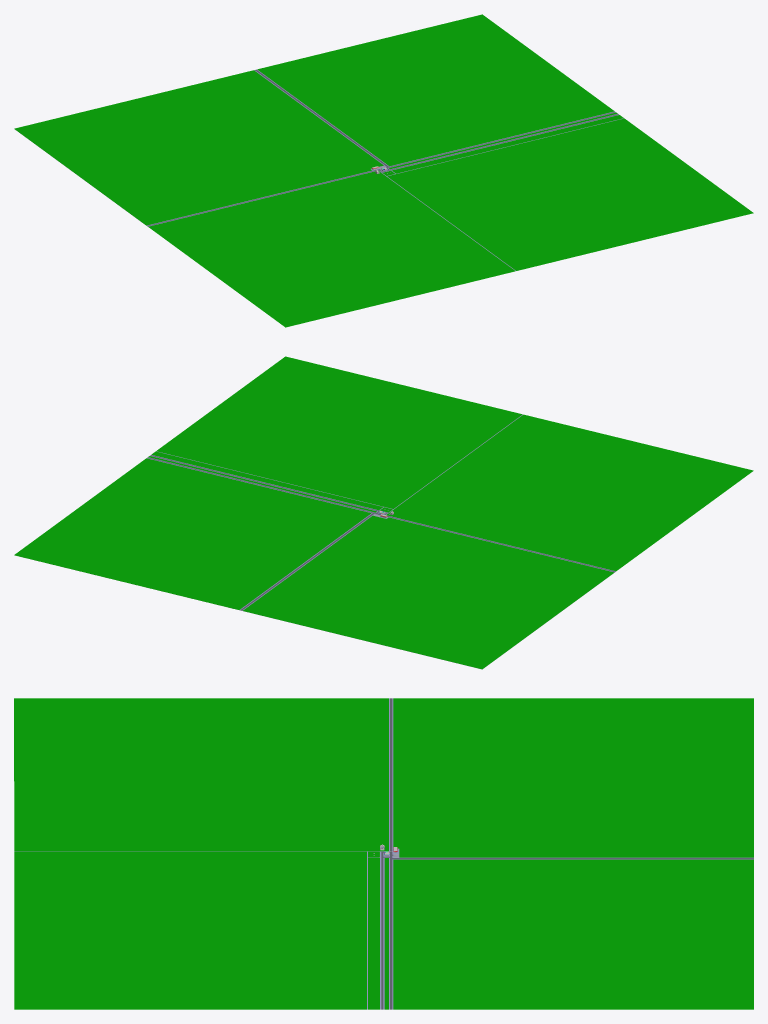
Rendered from ENVO_Street01.obj.
The picture shows the model from 3 angles, top to bottom: view 1: azimuth 30°, elevation 25°; view 2: azimuth 150°, elevation 25°; view 3: azimuth 270°, elevation 25°; orthographic projection. The views are drawn at different scales.
Visible parts, largest first — view 1: Street01; view 2: Street01; view 3: Street01.
Part boxes in pixels (bbox=[...]): Street01: bbox=[14, 14, 753, 327]; Street01: bbox=[14, 356, 753, 669]; Street01: bbox=[14, 698, 753, 1009].
Size of what is drawn, in the model's own units: 80012 by 577 by 80350.
Materials: 85 (37 with a texture image).
